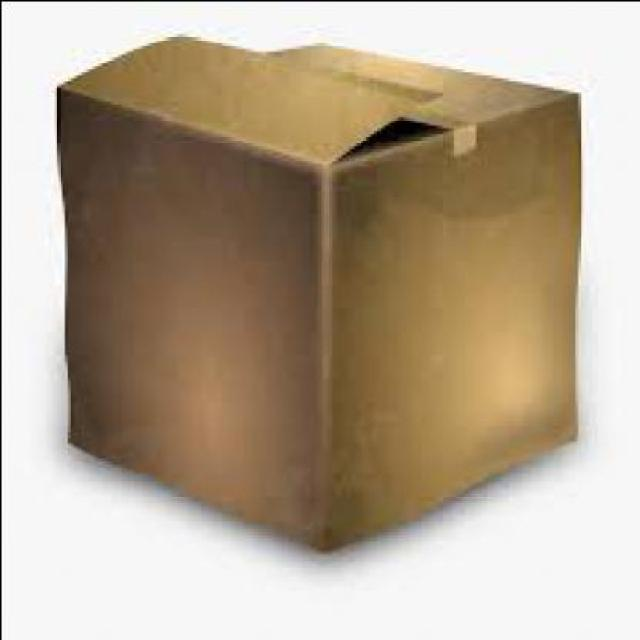CARDBOARD: (55, 30, 588, 552)
